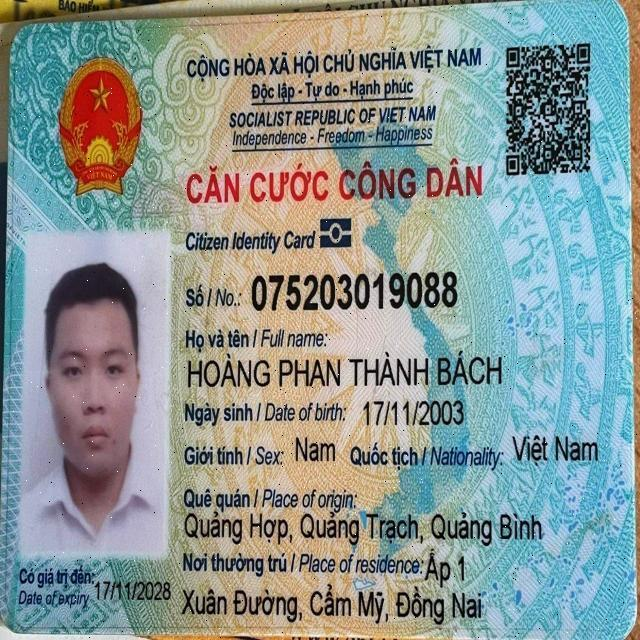current_place: (179, 584, 484, 627), (424, 546, 466, 590)
dob: (362, 396, 465, 430)
expire_date: (93, 577, 173, 604)
id: (249, 266, 460, 316)
name: (184, 346, 505, 392), (293, 432, 337, 467)
nationality: (510, 431, 600, 468)
origin_place: (182, 507, 544, 549)
